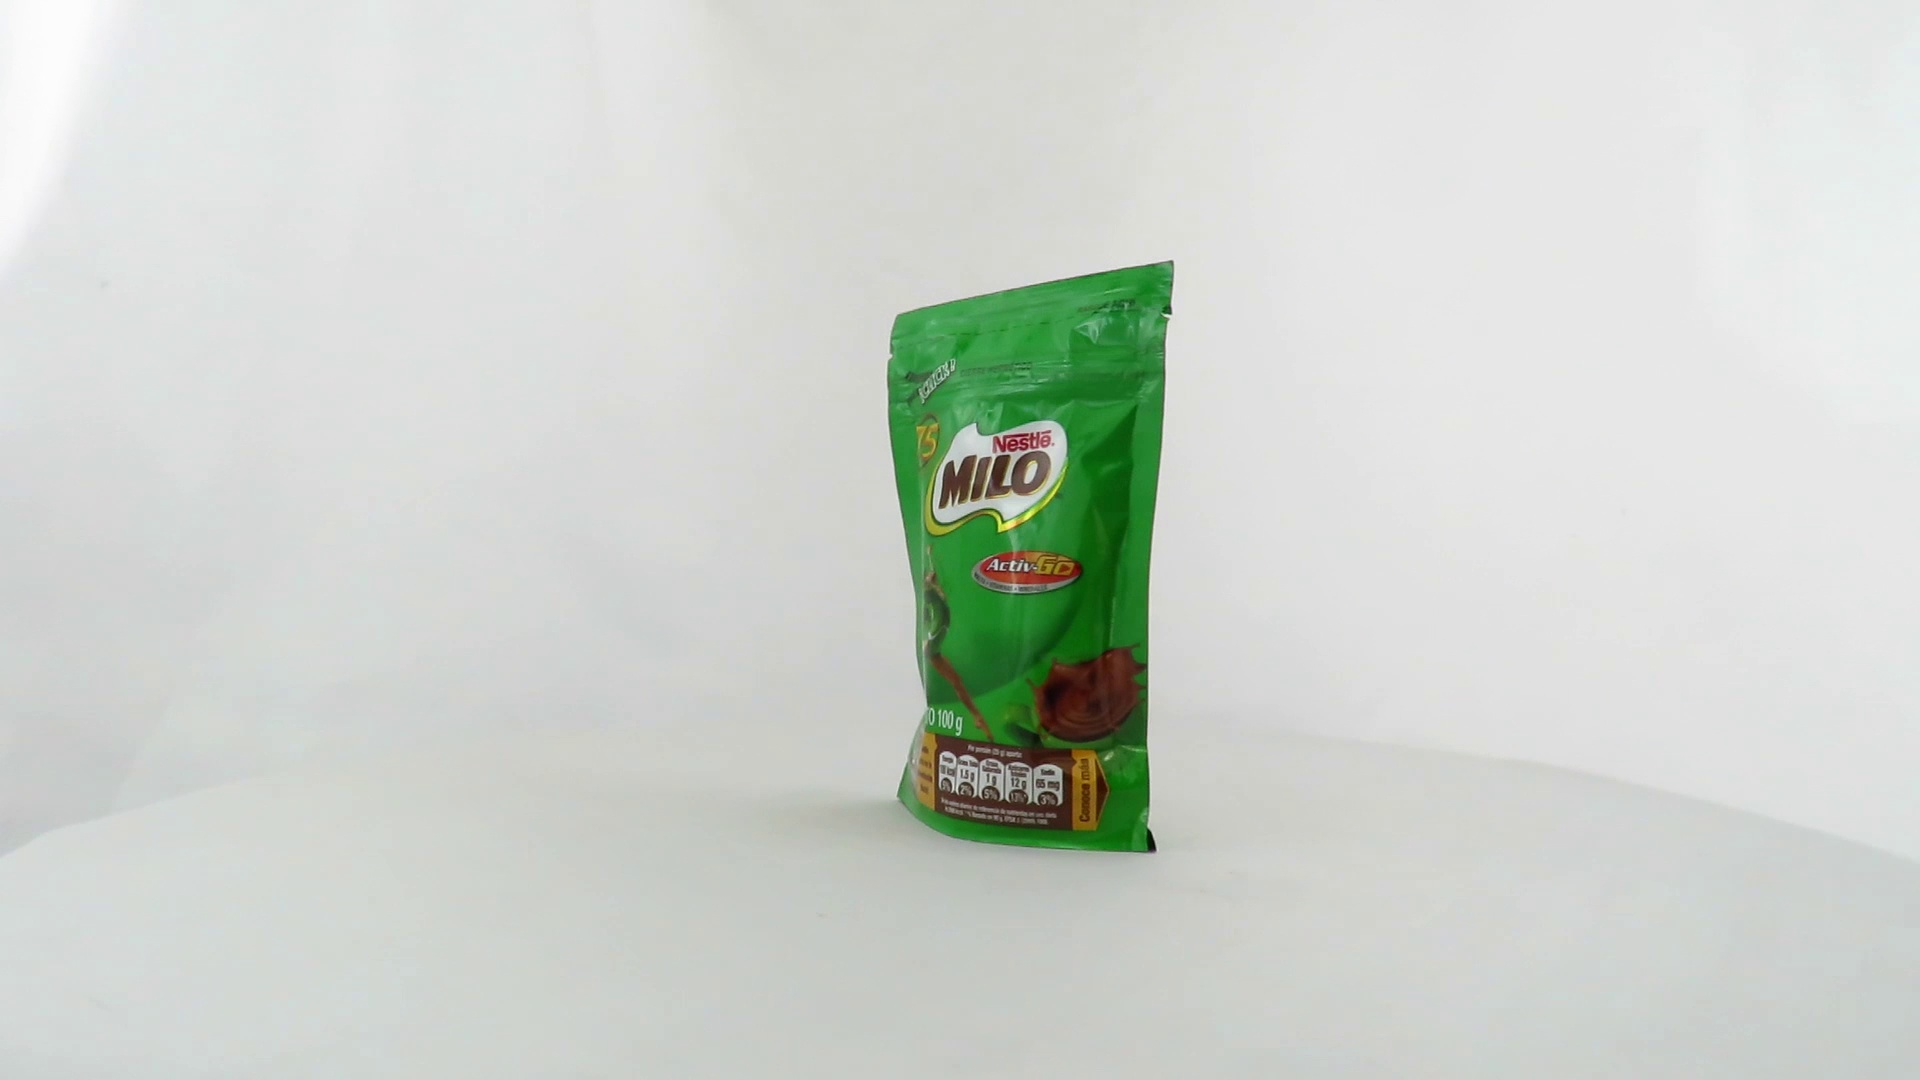COL0170203DYP10000: (882, 255, 1182, 860)
